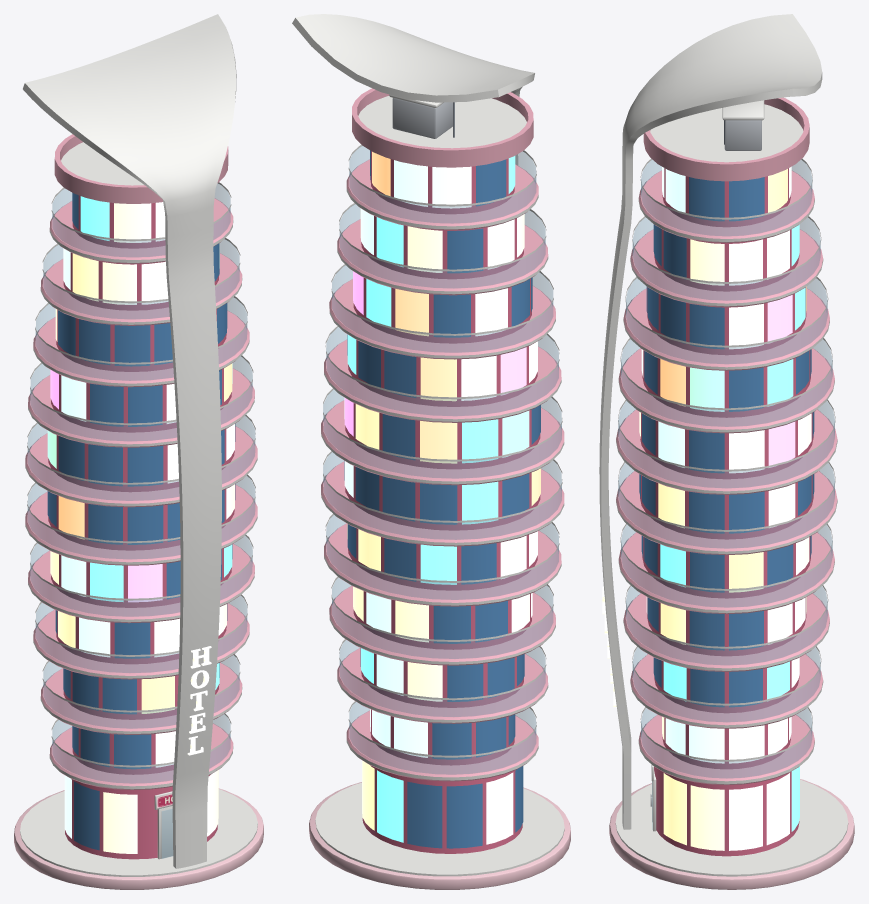
File: torre_vela_rosa.glb
3 views of the same model, side by side, from view 1: azimuth 30°, elevation 25°; view 2: azimuth 150°, elevation 25°; view 3: azimuth 270°, elevation 25° (orthographic). The views are drawn at different scales.
Visible parts, largest first — view 1: torre_vela_rosa; view 2: torre_vela_rosa; view 3: torre_vela_rosa.
Part boxes in pixels (x1=…): torre_vela_rosa: x1=14, y1=14, x2=263, y2=889; torre_vela_rosa: x1=292, y1=14, x2=570, y2=889; torre_vela_rosa: x1=599, y1=14, x2=854, y2=889.
Size of the model in its own units: 12.68 by 42.56 by 12.28.
Materials: 11 (2 with a texture image).
